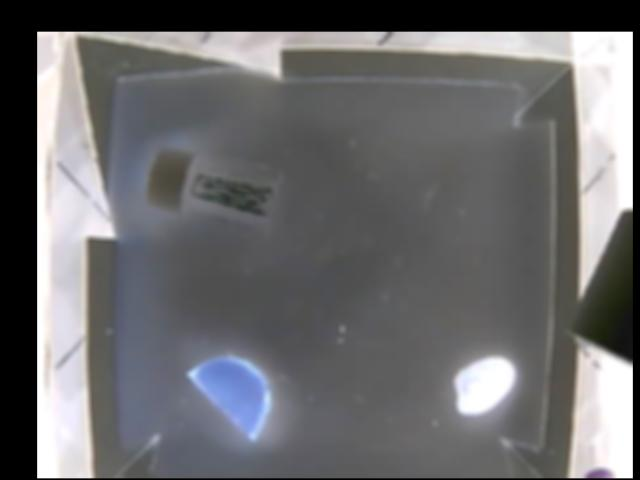Bottle: (146, 147, 281, 217)
Pebble: (449, 354, 517, 416)
Potato: (187, 357, 269, 435)
